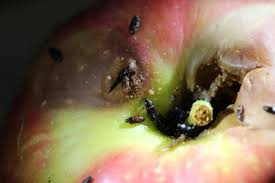damaged_apple: (24, 18, 268, 177)
